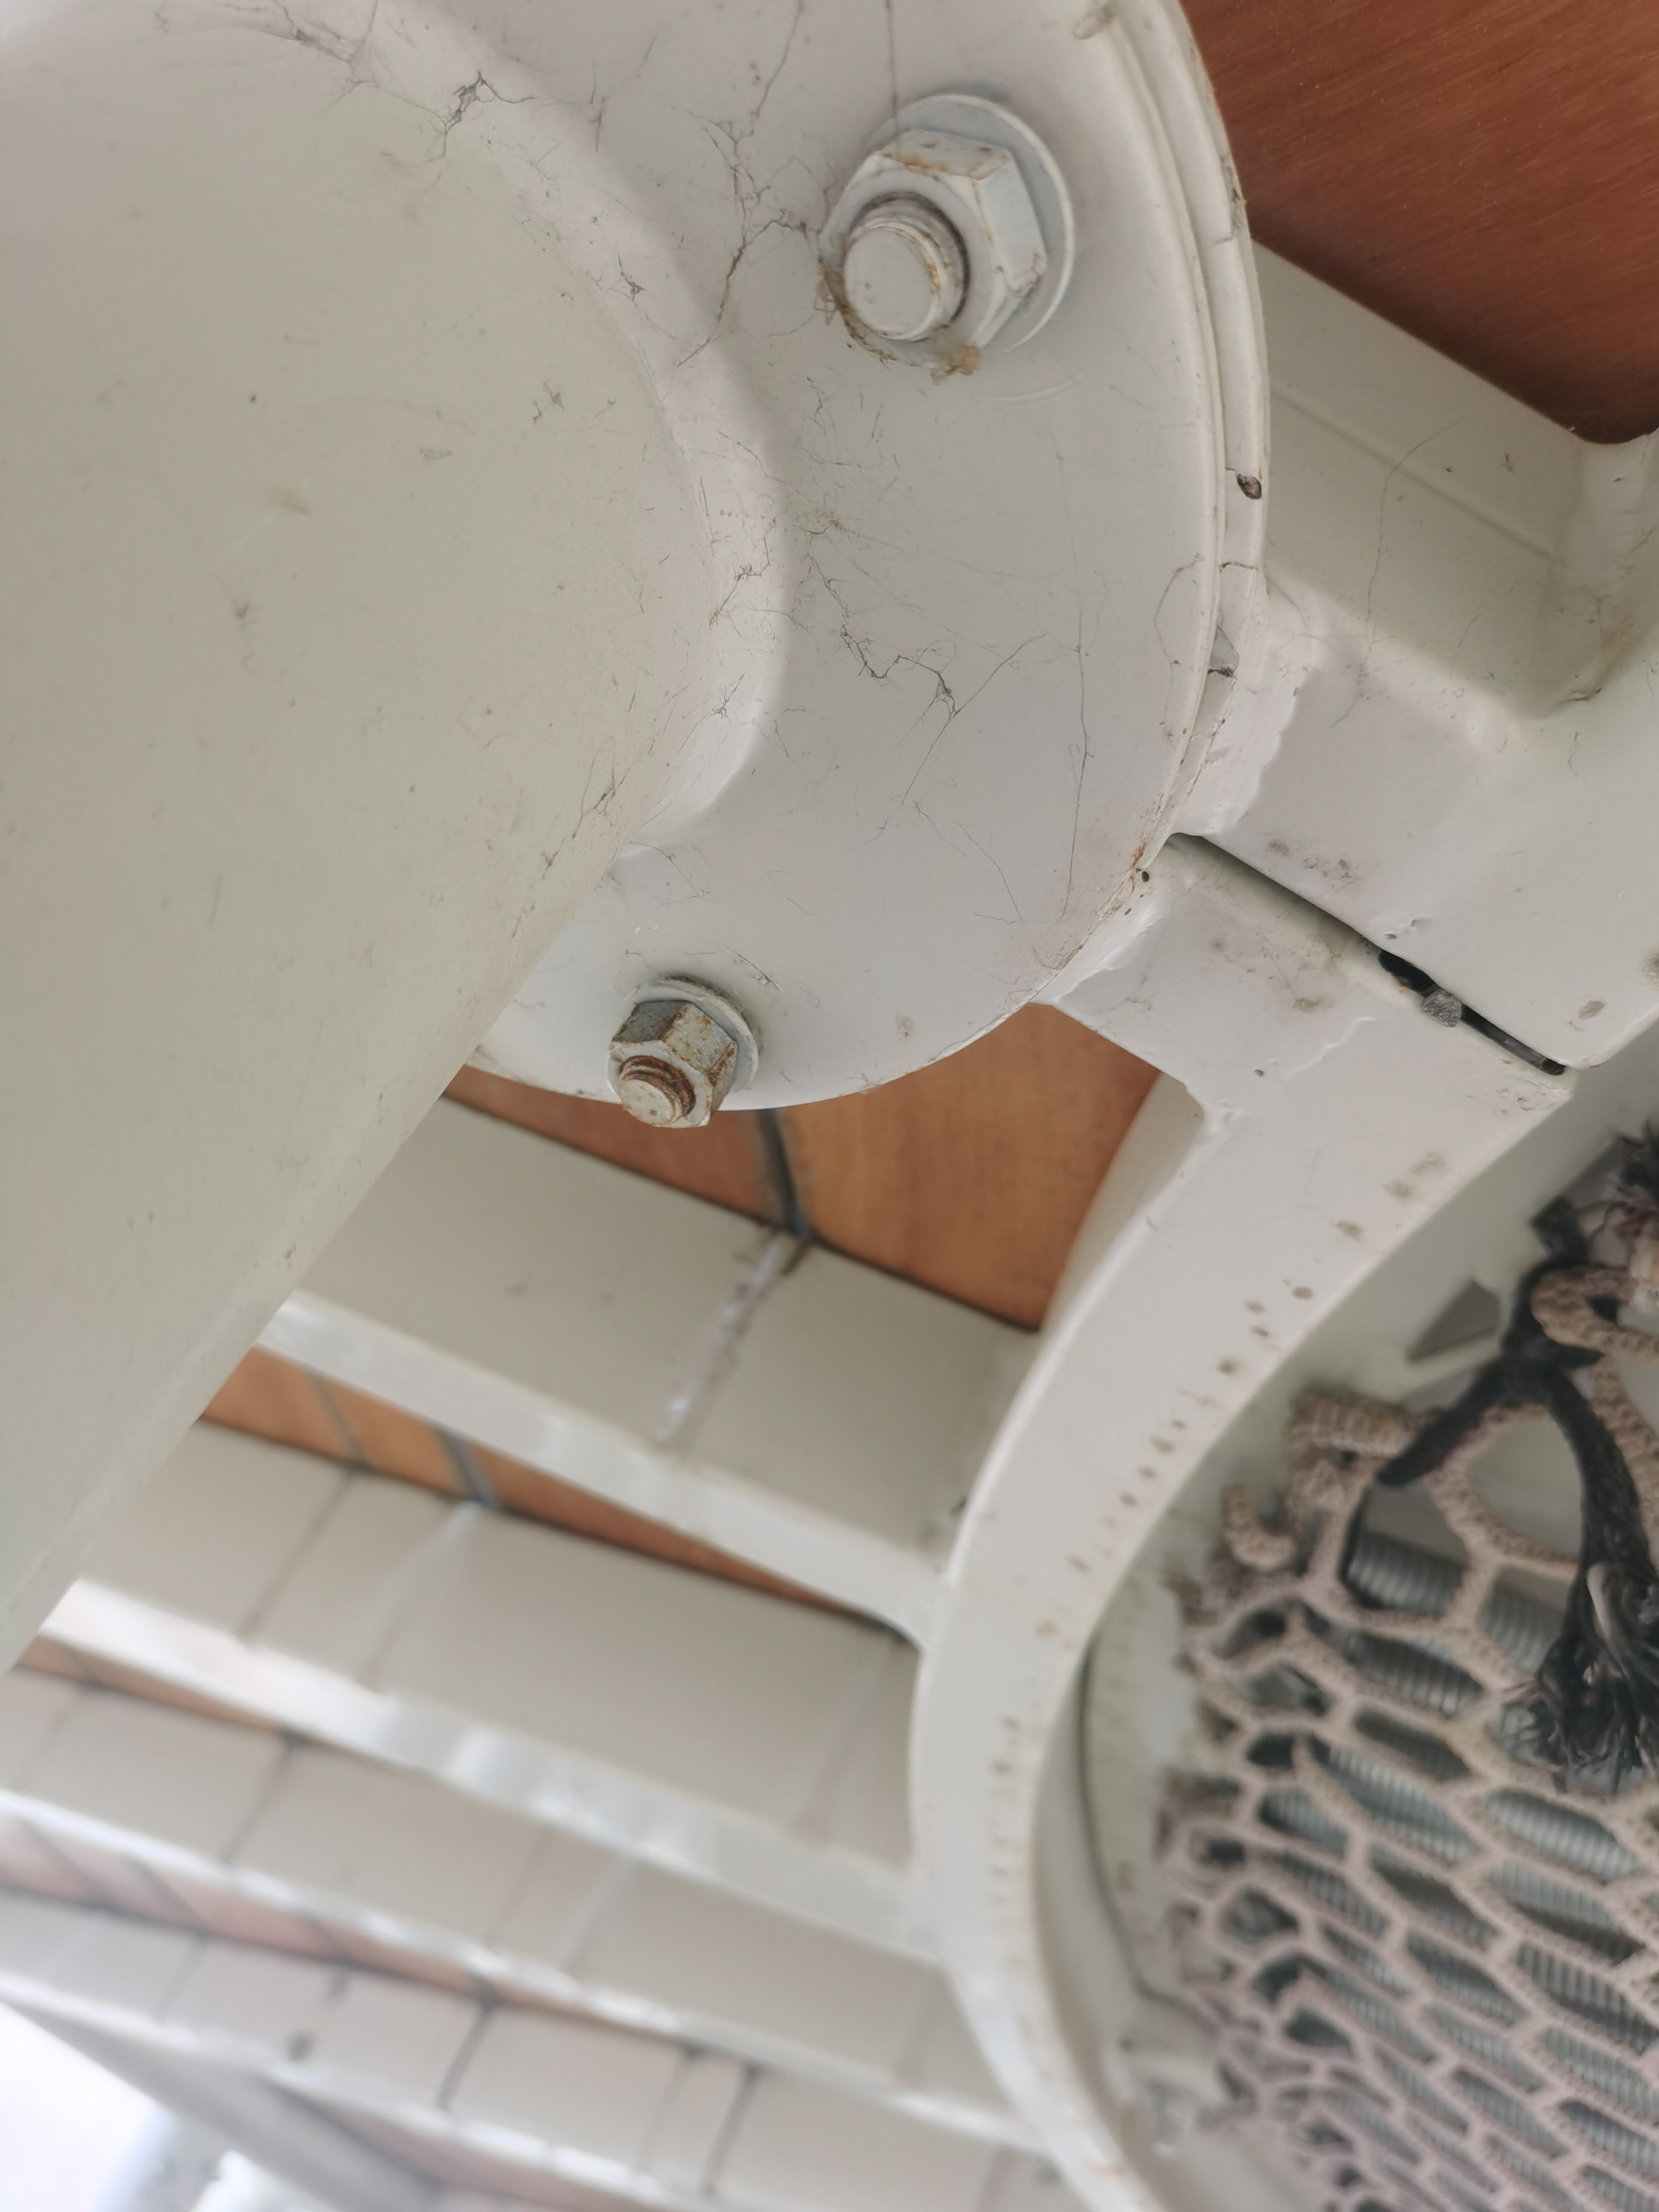bolt_b: (807, 120, 1053, 378), (605, 996, 742, 1136)
